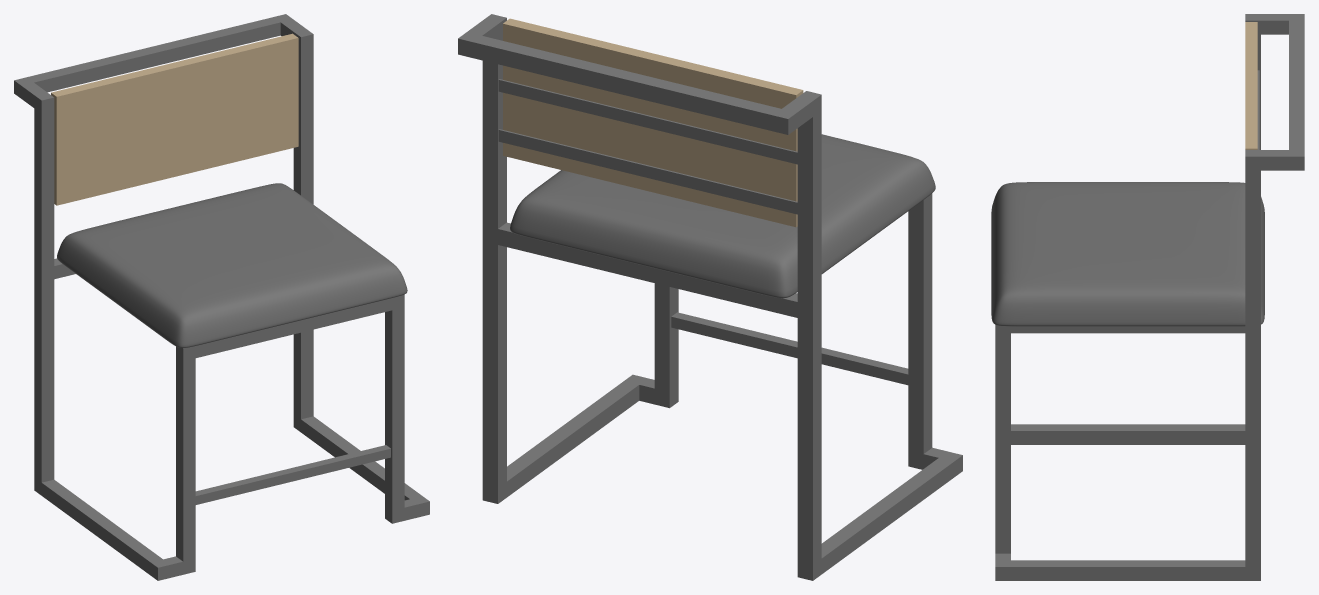
File: 594_ダイニングチェア.glb
3 renders of one model, left to right at view 1: azimuth 30°, elevation 25°; view 2: azimuth 150°, elevation 25°; view 3: azimuth 270°, elevation 25°, orthographic. The views are drawn at different scales.
Parts seen in each view (by area): view 1: Body; view 2: Body; view 3: Body.
Part boxes in pixels (x1=…): Body: x1=14, y1=14, x2=429, y2=580; Body: x1=458, y1=14, x2=962, y2=580; Body: x1=991, y1=14, x2=1304, y2=580.
Size of the model in its own units: 0.54 by 0.75 by 0.5016.
